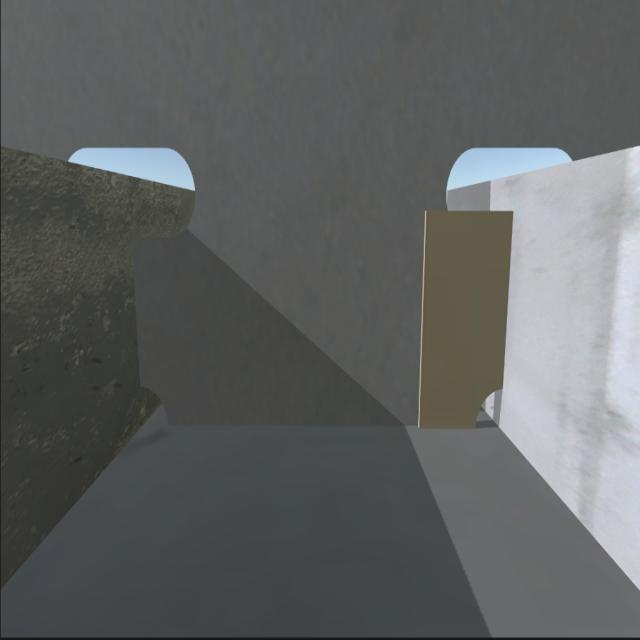fillet_hole: (137, 379, 169, 429), (474, 381, 504, 427)
fillet_yong_jeop_jang: (168, 418, 476, 432)
longi_yong_jeop_jang: (503, 210, 518, 388), (128, 228, 145, 378)
plate_CP01: (420, 208, 508, 422)
